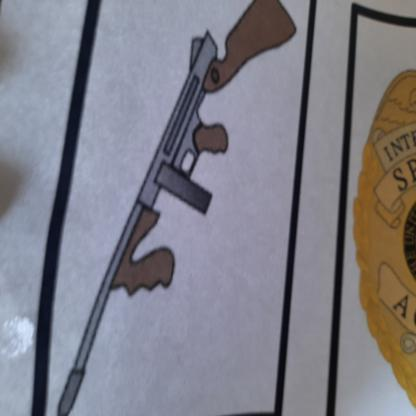Bootlegger: (51, 1, 309, 416)
